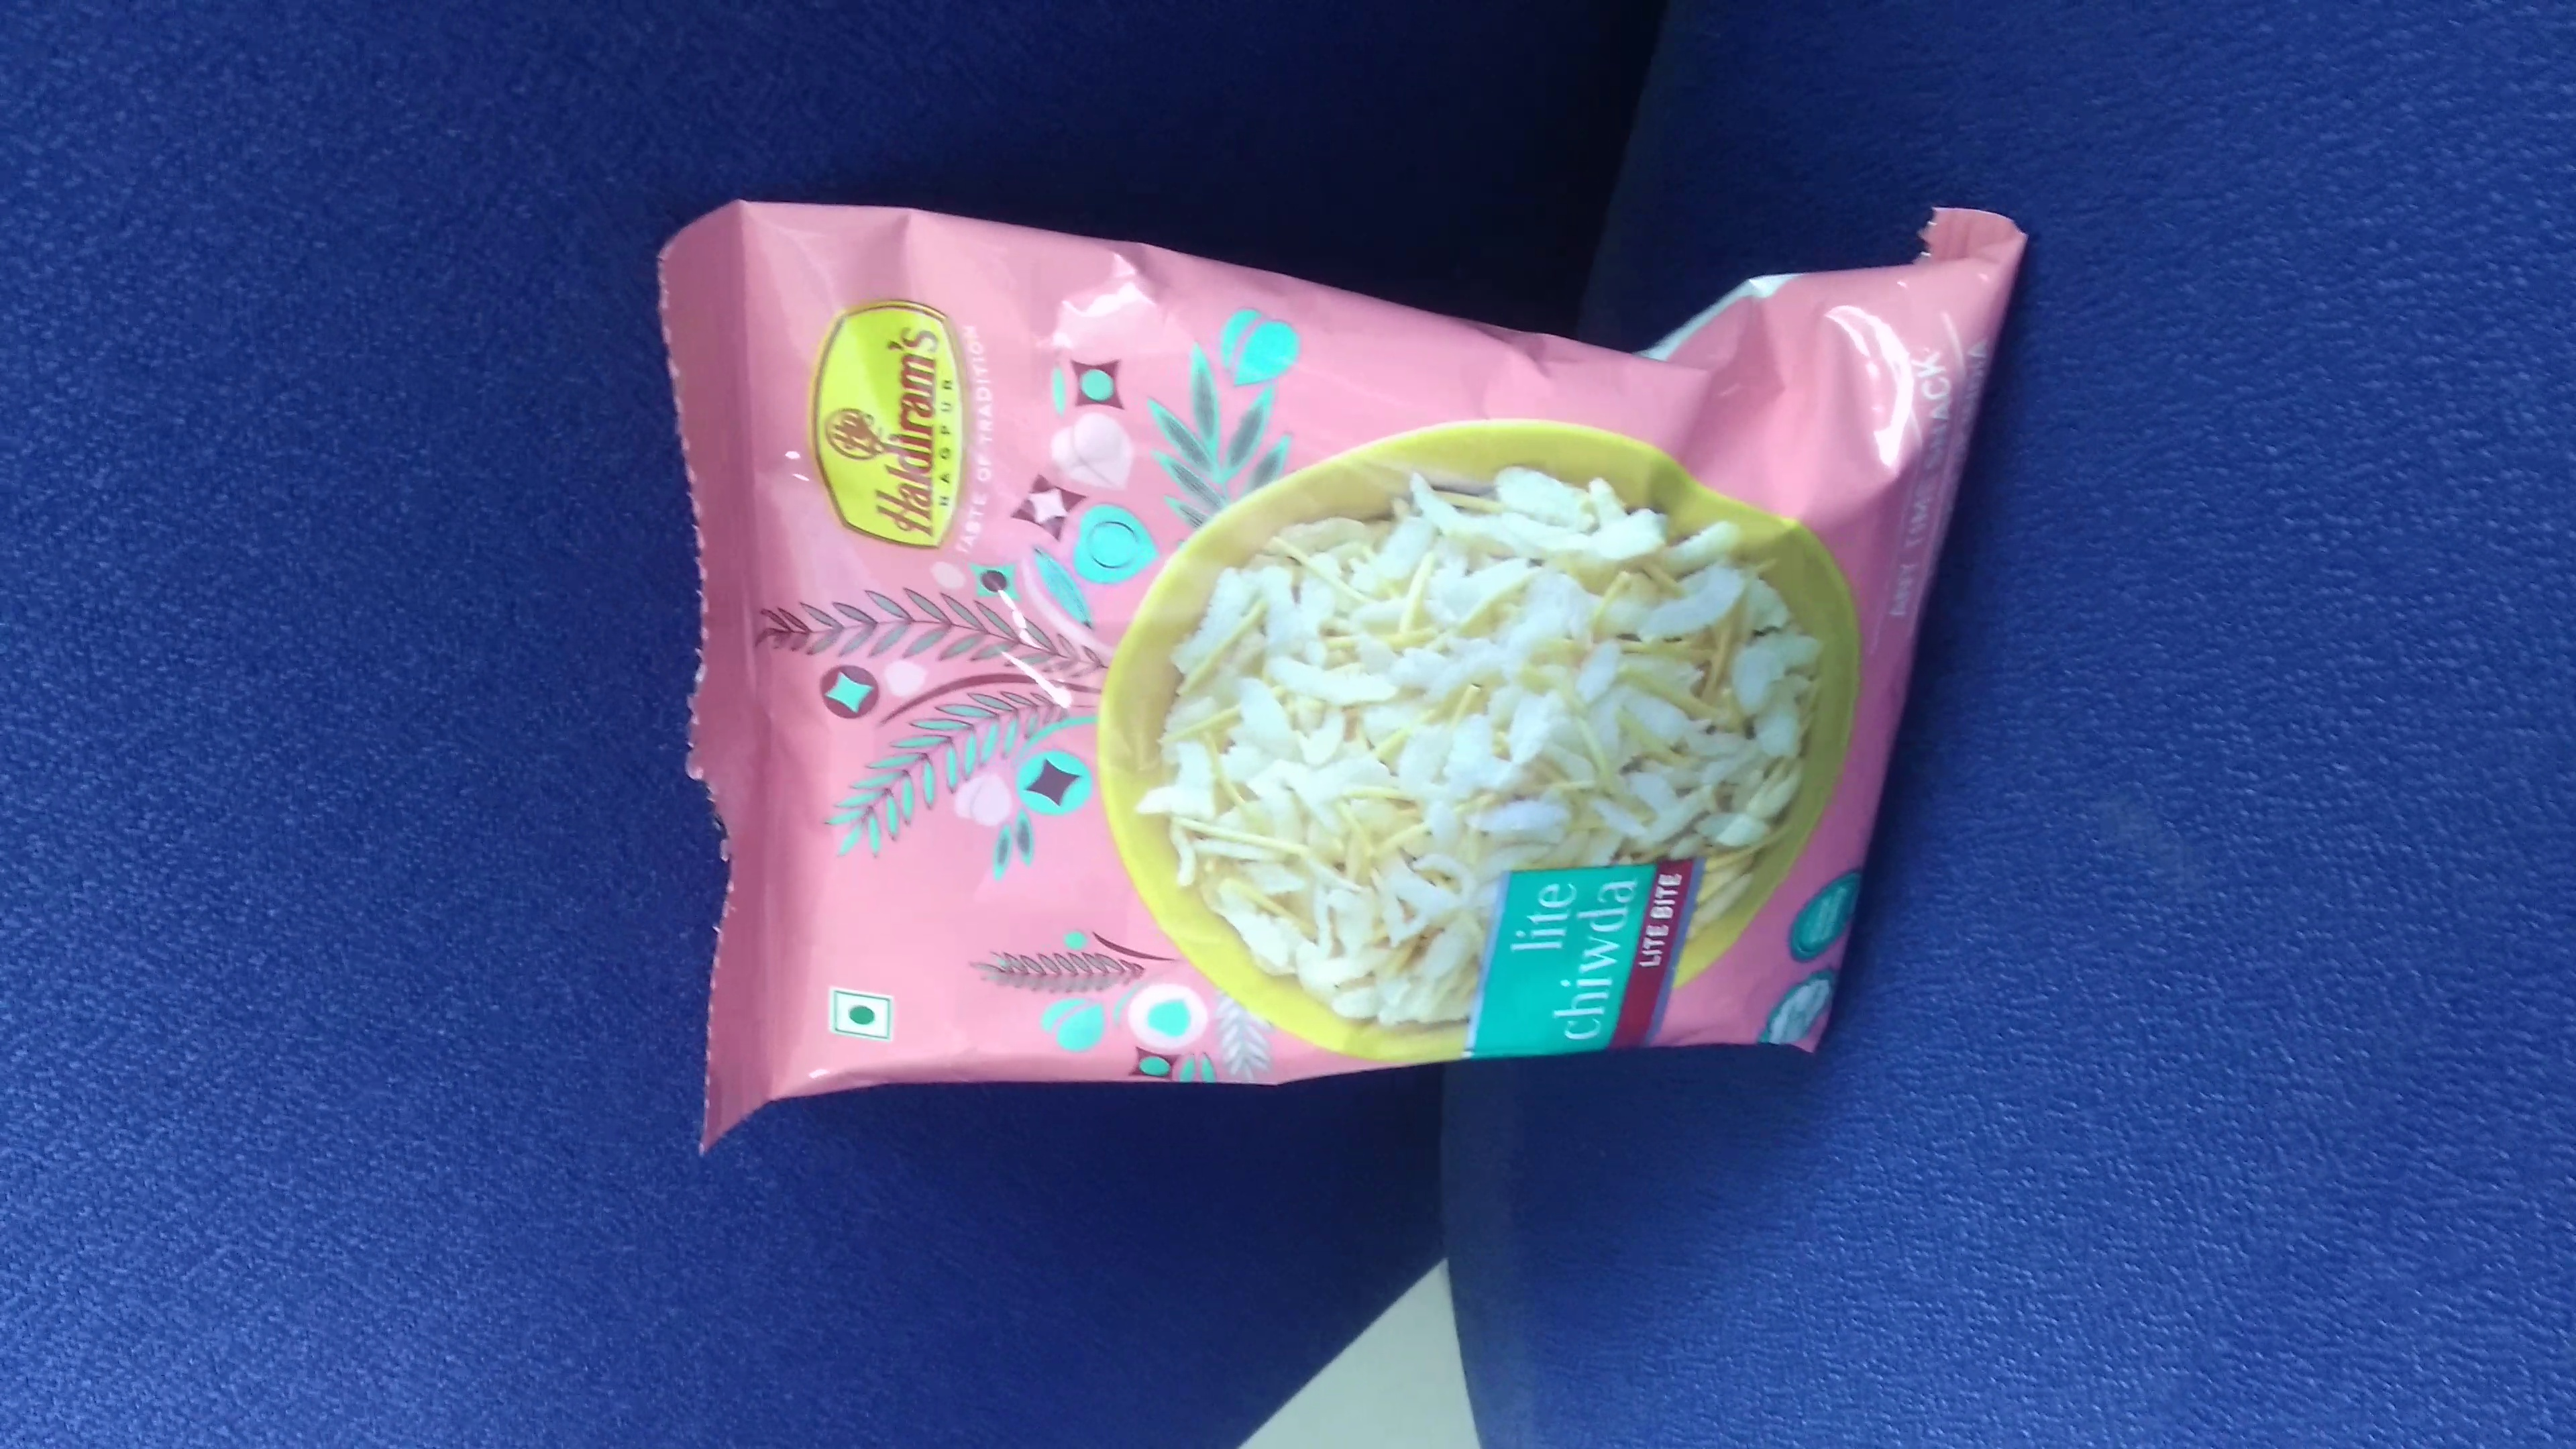liteChiwda: (632, 161, 2024, 1157)
